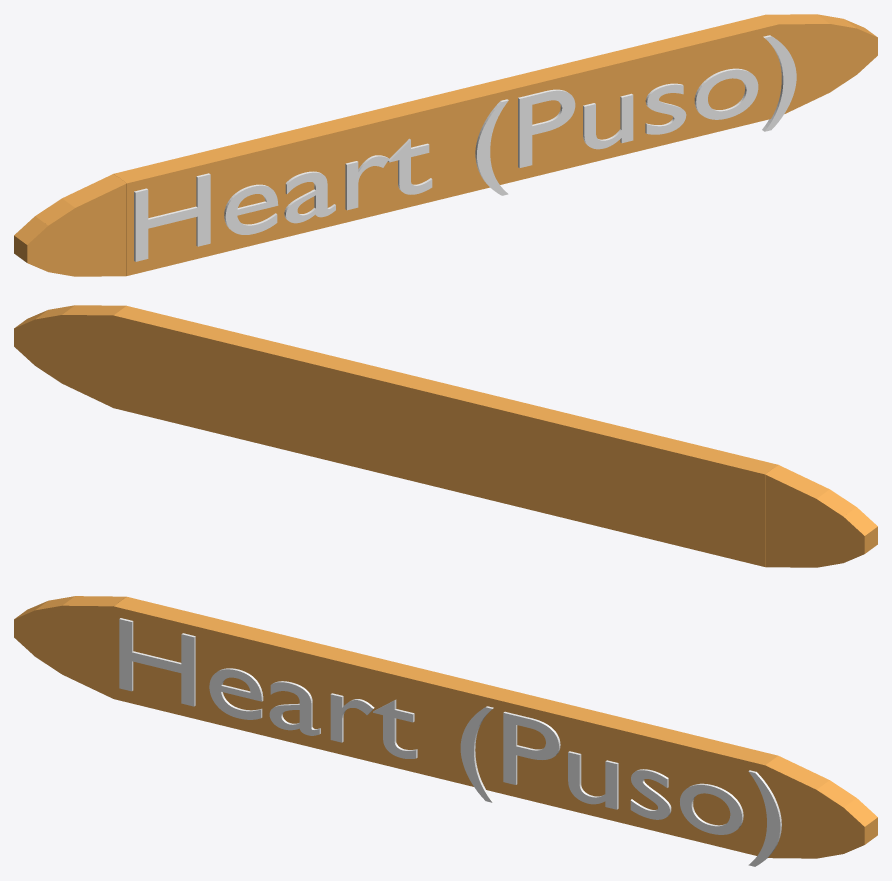
File: txtHeart.fbx
3 views of the same model, one above another, from view 1: azimuth 30°, elevation 25°; view 2: azimuth 150°, elevation 25°; view 3: azimuth 330°, elevation 25° (orthographic).
Visible parts, largest first — view 1: TagContainer.086, Text.087; view 2: TagContainer.086; view 3: TagContainer.086, Text.087.
Part boxes in pixels (x1=…): TagContainer.086: x1=14, y1=14, x2=877, y2=276; Text.087: x1=134, y1=35, x2=796, y2=261; TagContainer.086: x1=14, y1=305, x2=877, y2=567; TagContainer.086: x1=14, y1=596, x2=877, y2=858; Text.087: x1=119, y1=618, x2=781, y2=866.
Size of the model in its own units: 397 by 45.66 by 11.92.
